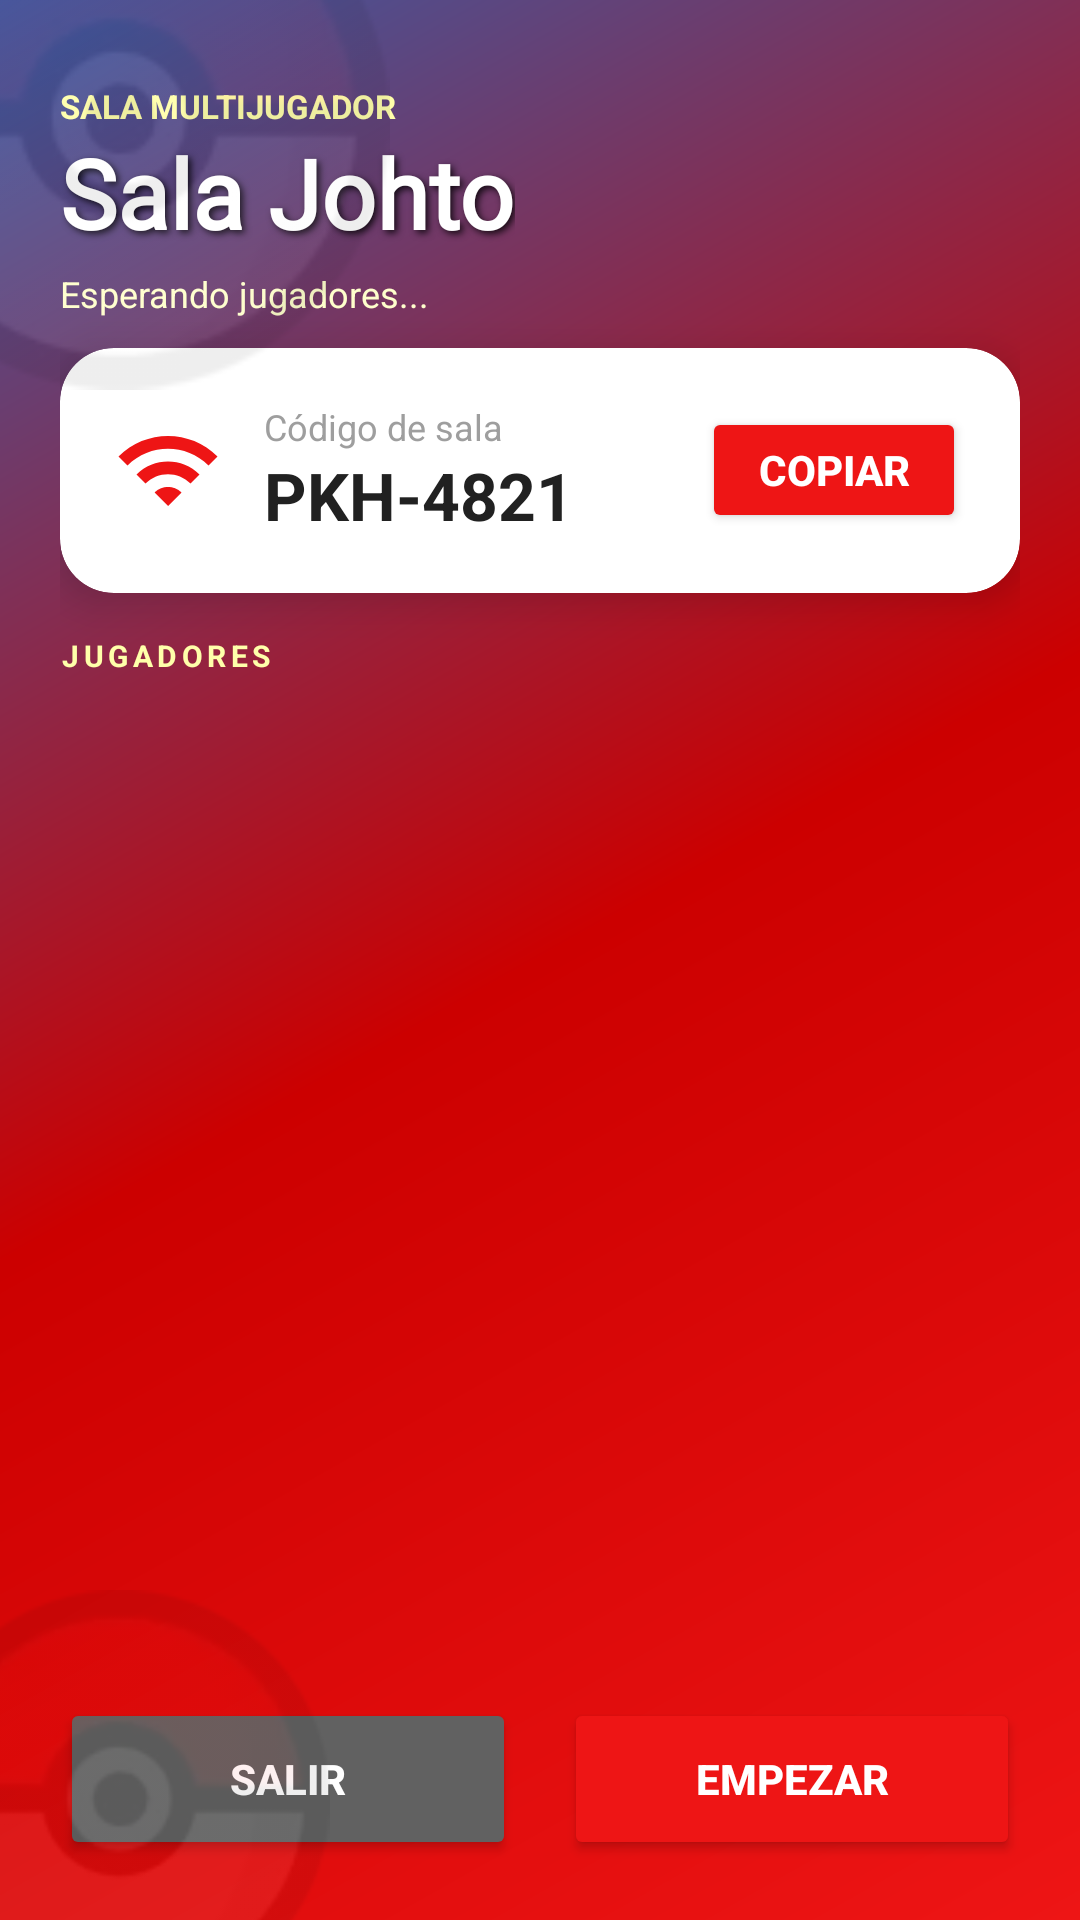

Icon bounding boxes for this 1080*1920 phone screenshot, format bbox(x1, y1, x2, y2):
online: bbox(118, 436, 218, 506)
